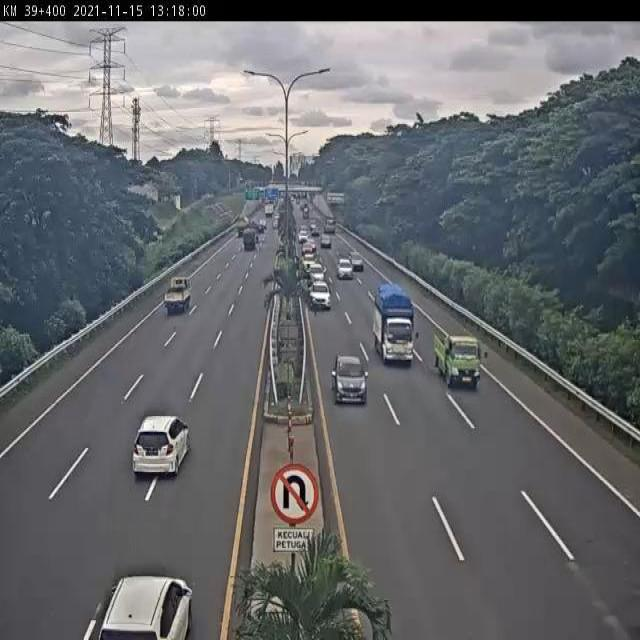ARABA: (132, 417, 192, 476), (331, 351, 369, 408), (308, 279, 332, 312)
KAMYONET: (371, 283, 416, 368), (432, 326, 483, 394), (162, 276, 193, 313)
